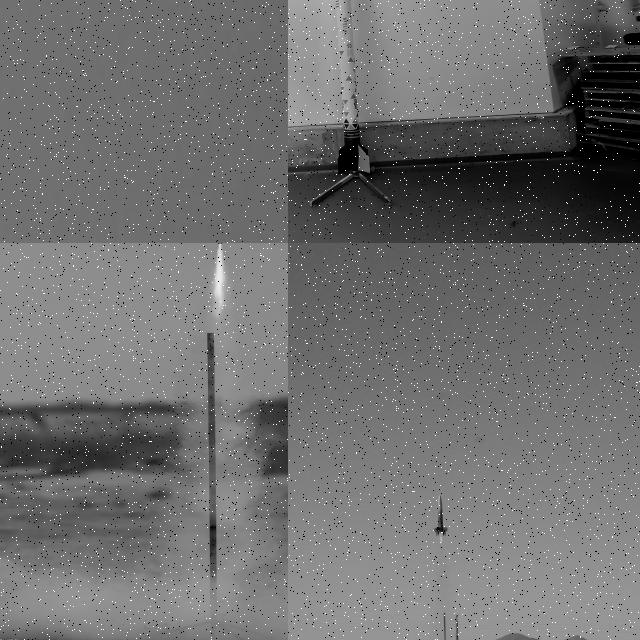Rocket: (335, 0, 370, 174), (433, 494, 449, 536)
